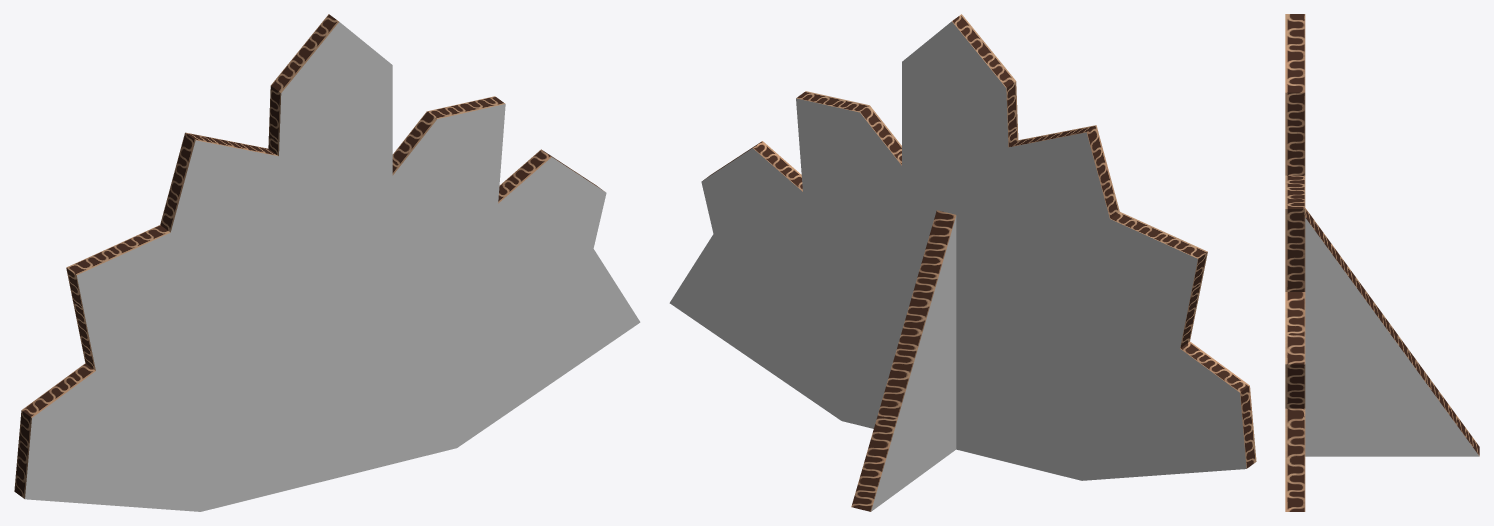
File: Cactus_6.fbx
3 views of the same model, side by side, from view 1: azimuth 30°, elevation 25°; view 2: azimuth 150°, elevation 25°; view 3: azimuth 270°, elevation 25° (orthographic). The views are drawn at different scales.
Visible parts, largest first — view 1: Cactus 6_LOD0; view 2: Cactus 6_LOD0; view 3: Cactus 6_LOD0.
Part boxes in pixels (x1=…): Cactus 6_LOD0: x1=14, y1=14, x2=640, y2=511; Cactus 6_LOD0: x1=669, y1=14, x2=1256, y2=511; Cactus 6_LOD0: x1=1285, y1=14, x2=1479, y2=511.
Bounding box in the file's own units: 462 × 327 × 132.
